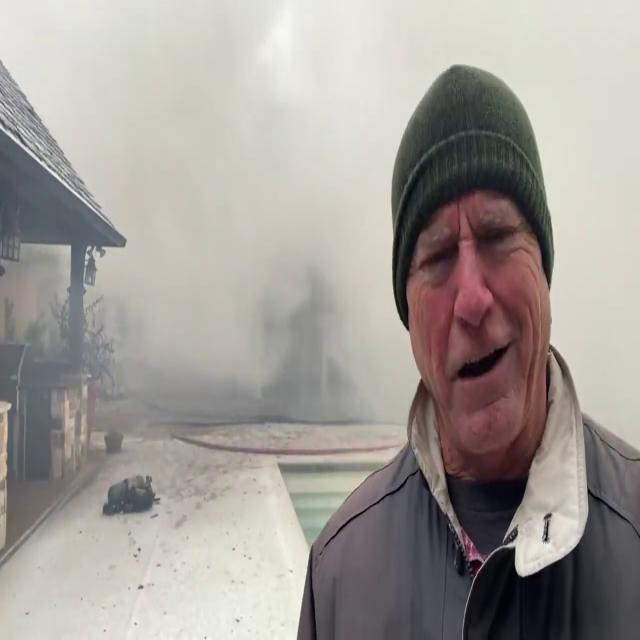Smoke: (13, 3, 410, 504)
